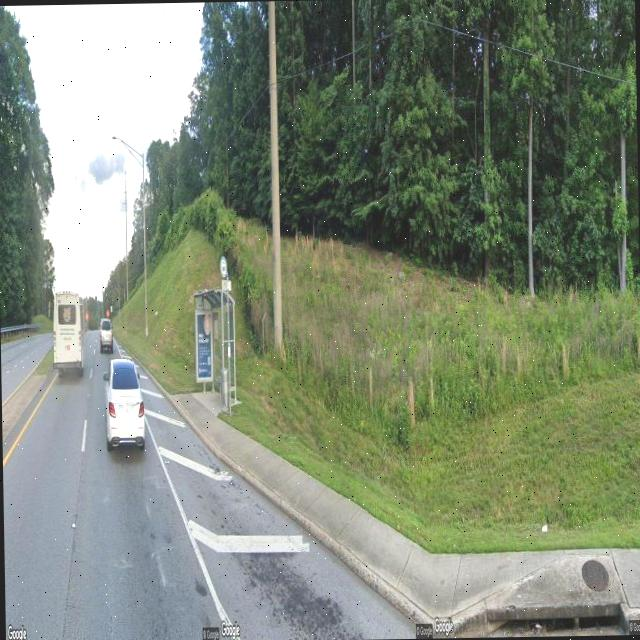seating: (214, 376, 222, 401)
shelter: (192, 286, 237, 408)
trash_can: (220, 366, 230, 412)
